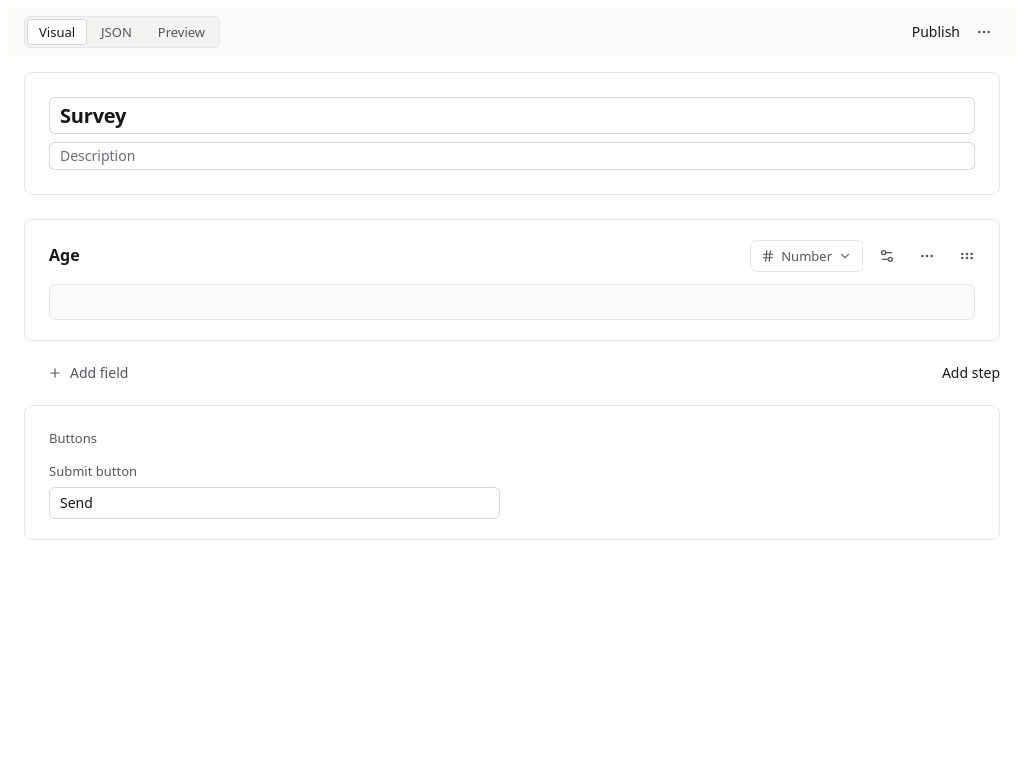
Test: field settings in the inspector › removes the custom message with its limit and flags ambiguous numbers
Click the button named "Field settings". click: x=887, y=256
box: [871, 240, 903, 272]
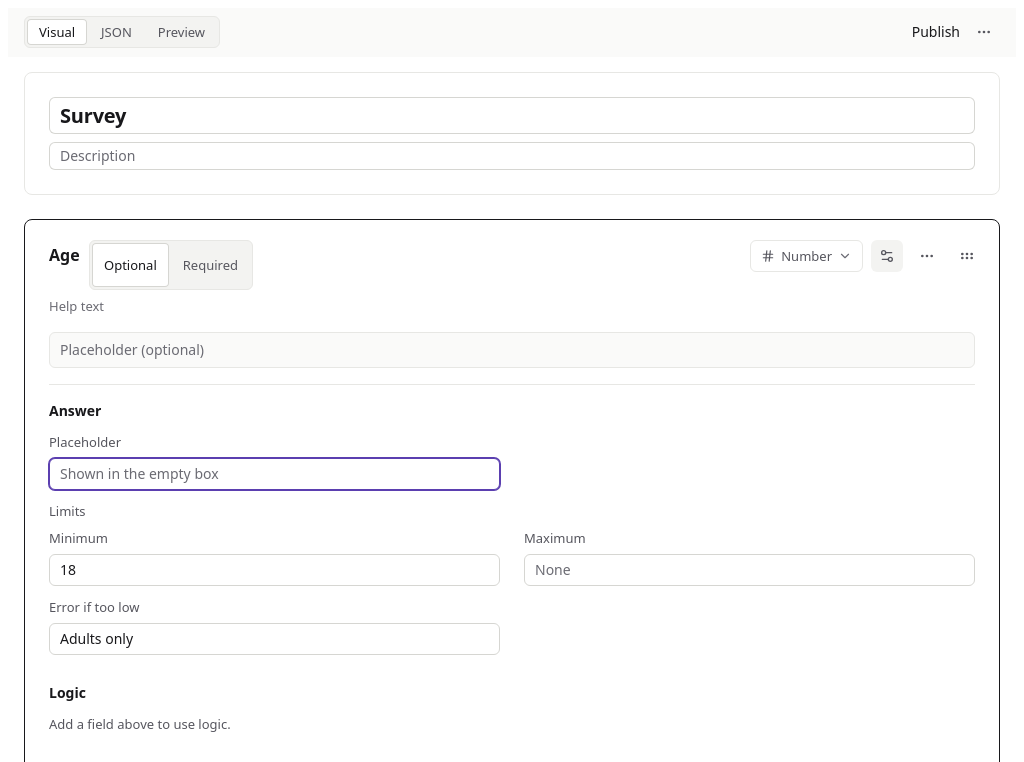
Type "1.000" into the field labelled "Maximum". click: x=750, y=570
box: [524, 554, 975, 586]
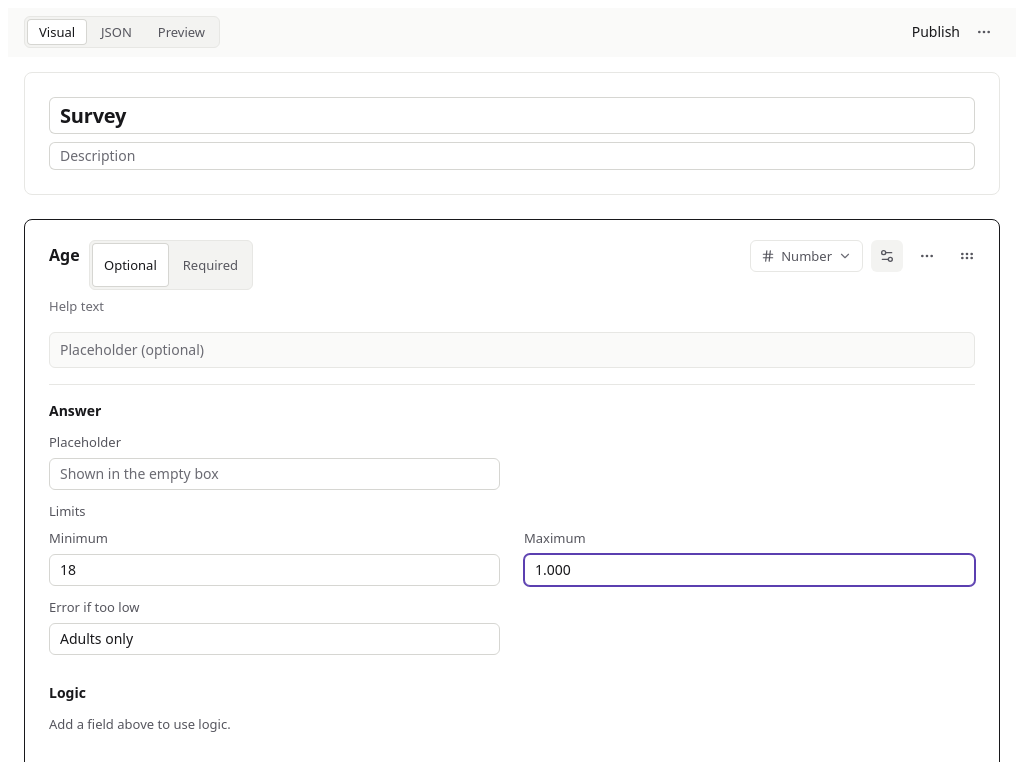
Press Tab
(page scrolled)
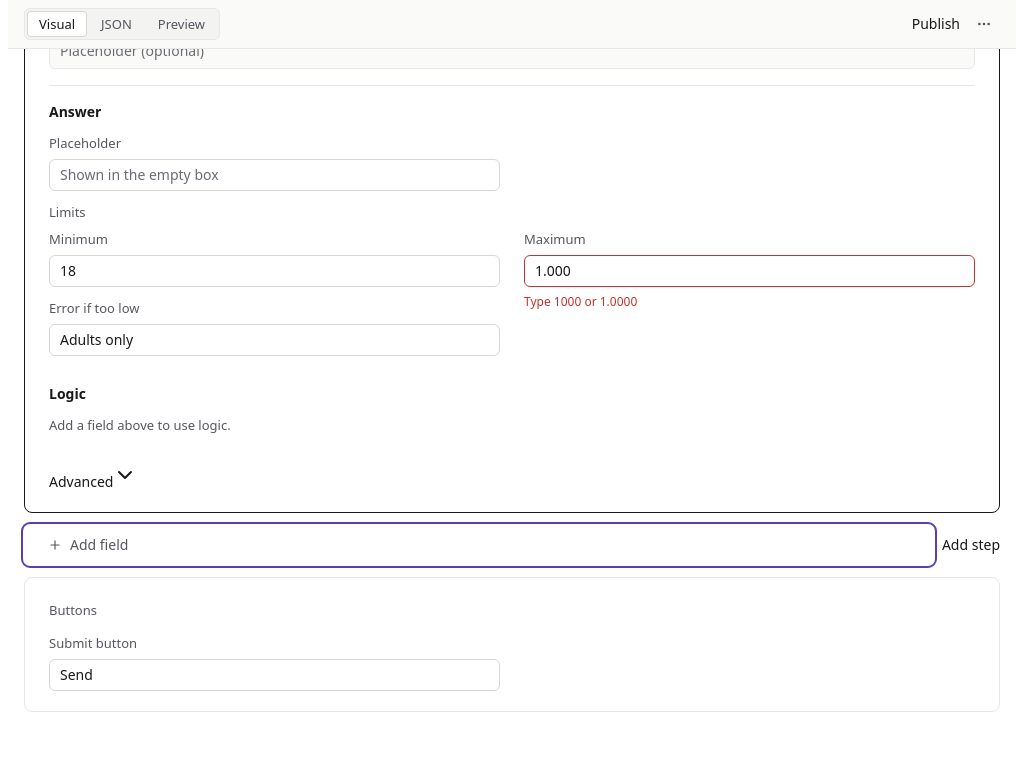
Result: the text "Type 1000 or 1.0000" is shown at [524, 293, 637, 310]
Clear the field labelled "Minimum". click: x=274, y=271
box: [49, 255, 500, 287]
(page scrolled)
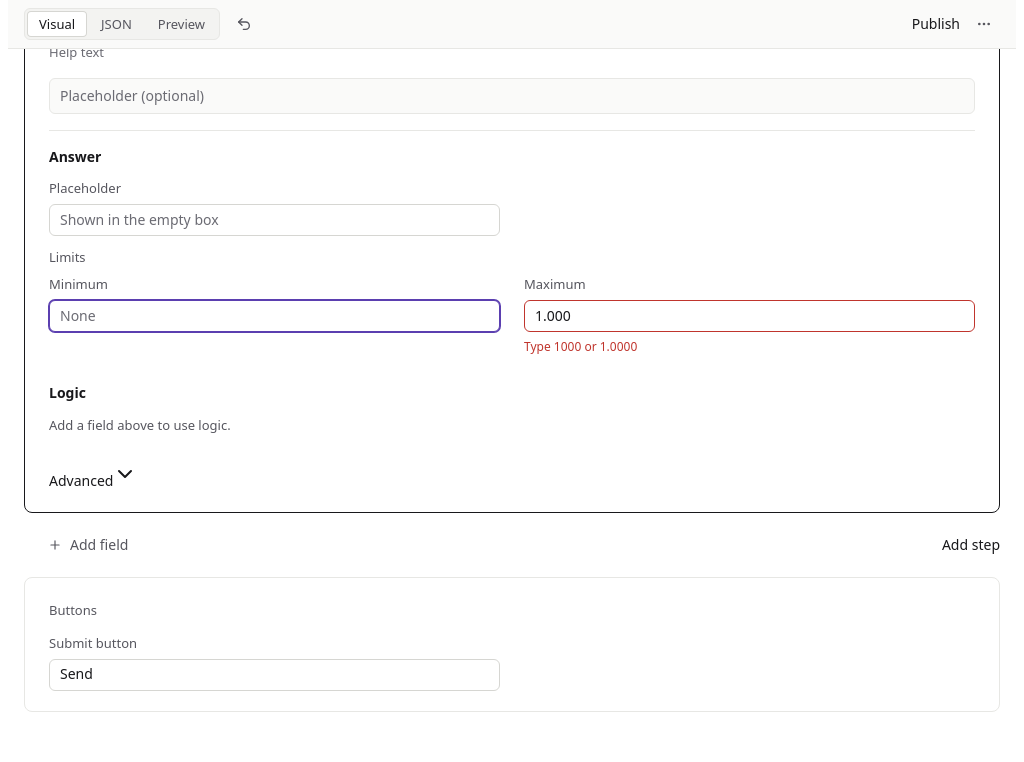
Result: the label "Error if too low" is gone
